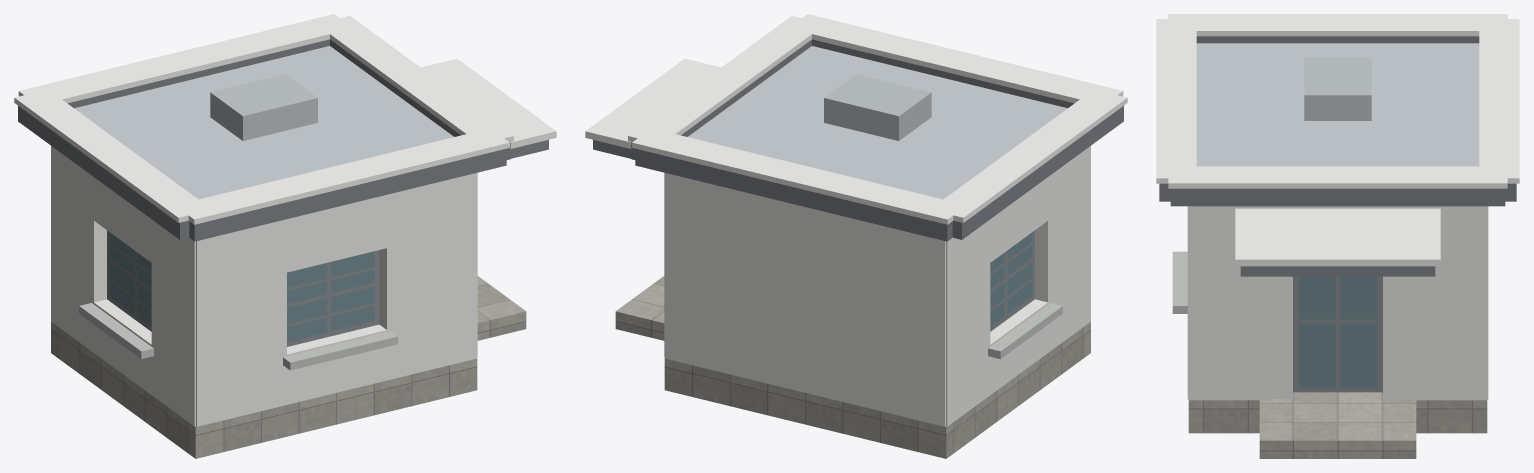
3 renders of one model, left to right at view 1: azimuth 30°, elevation 25°; view 2: azimuth 150°, elevation 25°; view 3: azimuth 270°, elevation 25°, orthographic. The views are drawn at different scales.
Parts seen in each view (by area): view 1: guard__panel, guard__cap, guard__metalroof, guard__stone, guard__darkframe, guard__glass, guard__steel, guard__frame, guard__sill, guard__threshold-front; view 2: guard__panel, guard__cap, guard__metalroof, guard__stone, guard__darkframe, guard__steel, guard__glass, guard__threshold-front, guard__sill, guard__frame; view 3: guard__cap, guard__panel, guard__metalroof, guard__threshold-front, guard__darkframe, guard__glass, guard__stone, guard__steel, guard__frame, guard__entrance, guard__sill.
Part boxes in pixels (x1,y1,x2,y2): guard__panel: (51,146,477,426); guard__cap: (14,14,556,224); guard__metalroof: (74,46,453,199); guard__stone: (51,322,477,458); guard__darkframe: (18,39,510,241); guard__glass: (109,232,374,341); guard__steel: (210,74,317,140); guard__frame: (107,230,379,346); guard__sill: (79,303,397,370); guard__threshold-front: (477,276,526,340); guard__panel: (664,146,1090,426); guard__cap: (585,14,1127,224); guard__metalroof: (688,46,1067,199); guard__stone: (664,322,1090,458); guard__darkframe: (631,39,1123,241); guard__steel: (824,74,931,140); guard__glass: (990,232,1032,326); guard__threshold-front: (615,276,664,340); guard__sill: (988,303,1062,359); guard__frame: (990,230,1034,331); guard__cap: (1156,14,1519,266); guard__panel: (1187,206,1488,400); guard__metalroof: (1196,43,1479,166); guard__threshold-front: (1259,393,1416,458); guard__darkframe: (1159,36,1516,206); guard__glass: (1298,276,1377,387); guard__stone: (1188,392,1487,433); guard__steel: (1304,57,1371,120); guard__frame: (1293,276,1382,392); guard__entrance: (1240,266,1435,276); guard__sill: (1172,251,1187,313).
Size of the model in its own units: 6.56 by 4.22 by 4.86.
10 materials, 1 textured.
